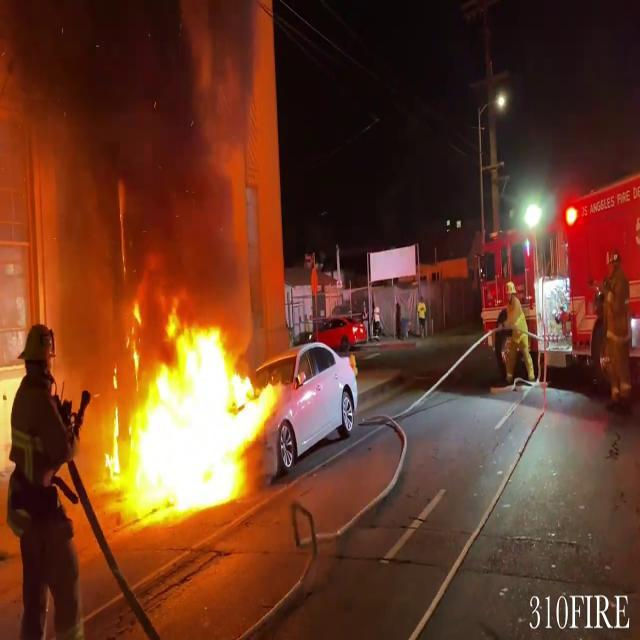Fire: (104, 313, 274, 524)
Smoke: (0, 0, 261, 303)
